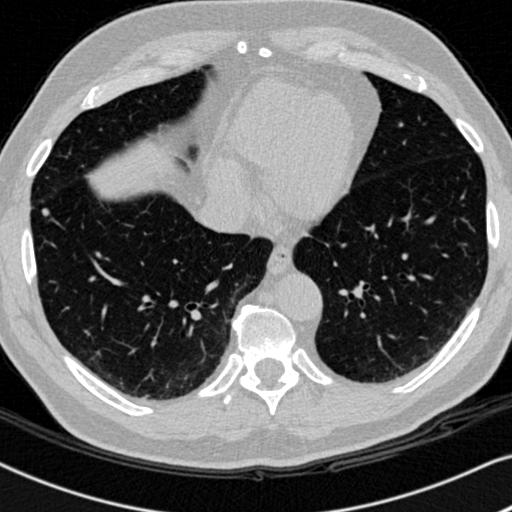nodule: (39, 206, 52, 219)
